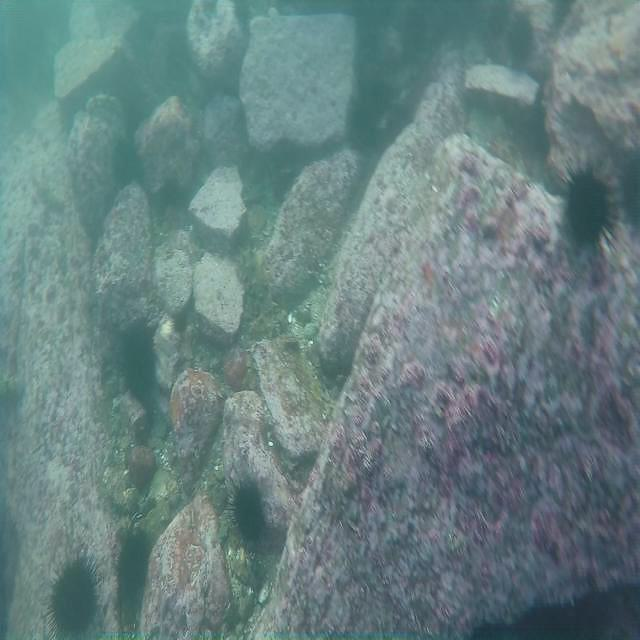echinus: (561, 154, 626, 254), (41, 551, 102, 640), (118, 316, 159, 408), (220, 471, 268, 545), (117, 529, 152, 611)
holothurian: (235, 245, 279, 336)
